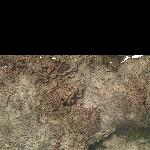dead: (1, 57, 147, 147)
